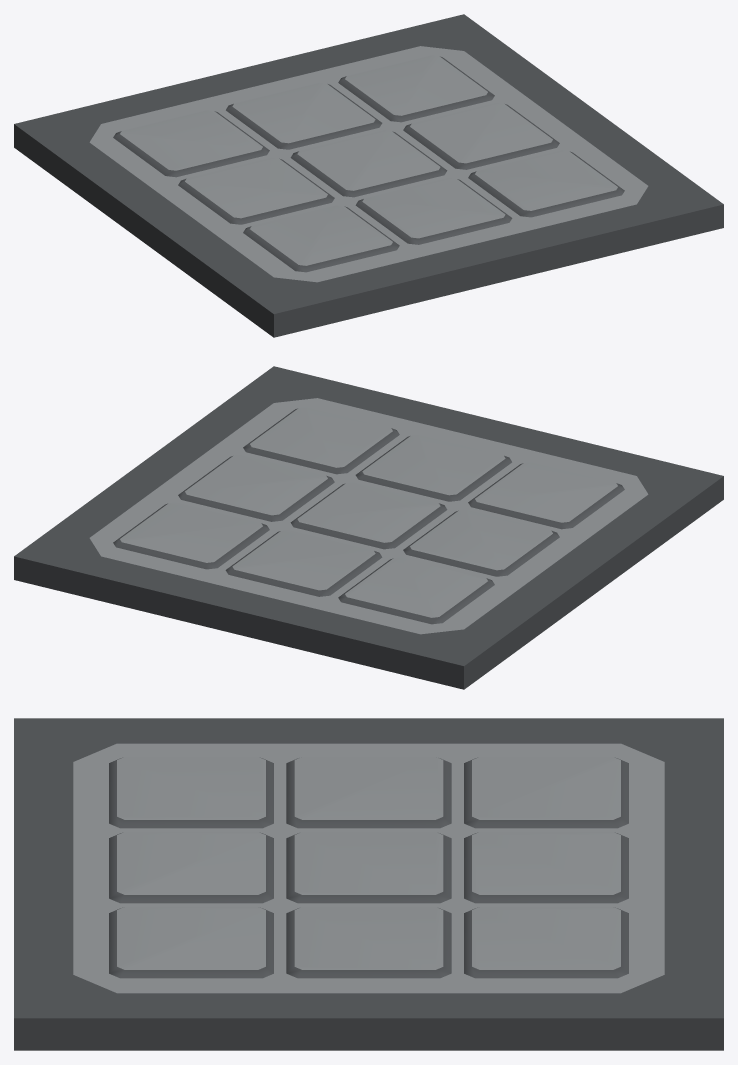
Rendered from Platform_008.fbx.
3 renders of one model, top to bottom at view 1: azimuth 30°, elevation 25°; view 2: azimuth 150°, elevation 25°; view 3: azimuth 270°, elevation 25°, orthographic. The views are drawn at different scales.
Visible parts, largest first — view 1: Platform_008; view 2: Platform_008; view 3: Platform_008.
Part boxes in pixels (x1=…): Platform_008: x1=14, y1=14, x2=723, y2=337; Platform_008: x1=14, y1=366, x2=723, y2=689; Platform_008: x1=14, y1=718, x2=723, y2=1050.
Size of the model in its own units: 400 by 400 by 26.18.
